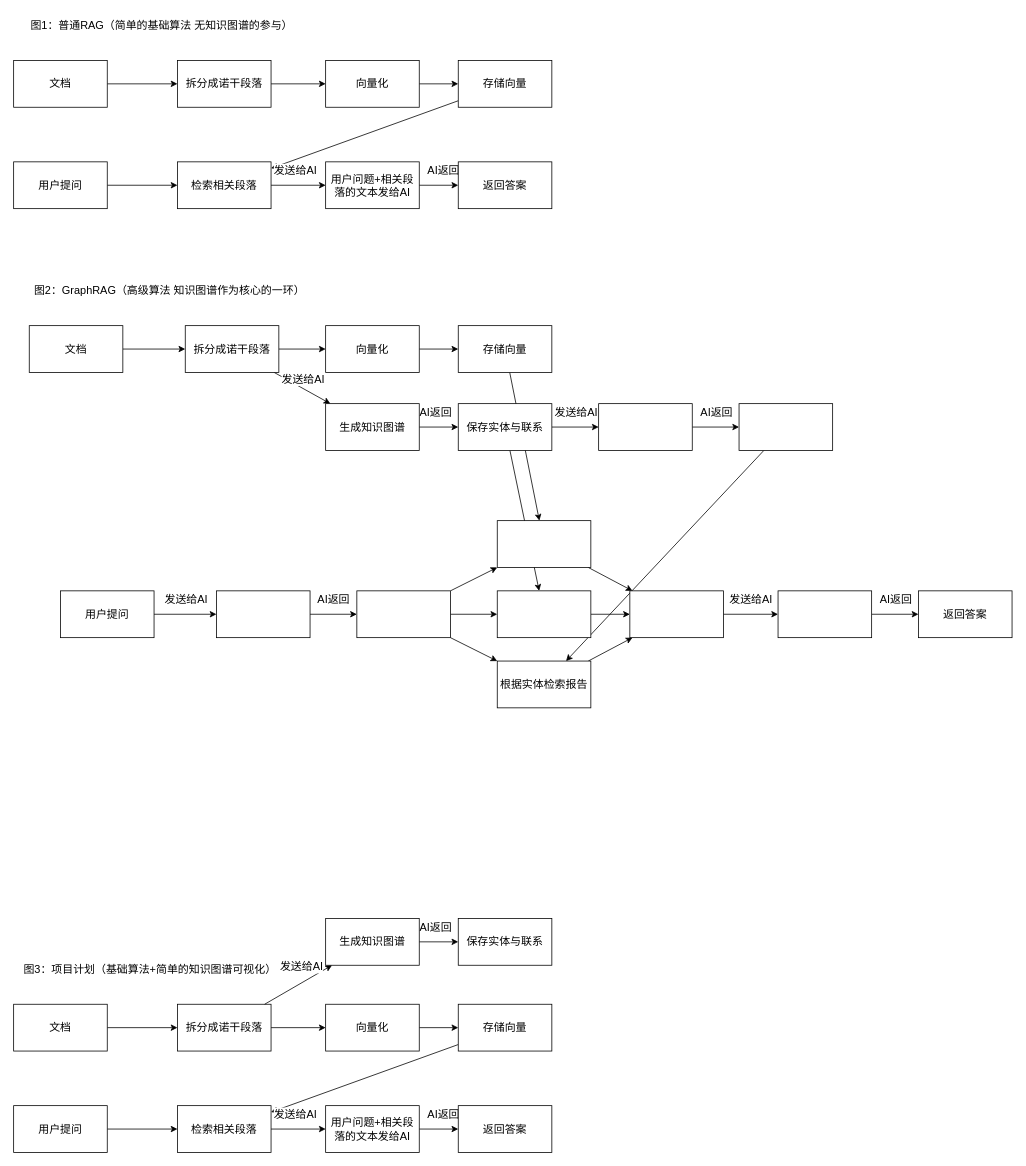
Some shapes in this 1026 by 1166 pixel diagram are drawn without their labels. Each missing label, with the centre of its shape:
从提问中提取实体: the point at 263,614
保存报告: the point at 785,426
合并成相关上下文: the point at 676,614
实体结果: the point at 403,614
根据实体检索段落: the point at 543,543
根据实体检索联系: the point at 543,614
生成知识图谱 总结报告: the point at 645,426
用户问题+上下文的文本发给AI: the point at 824,614
